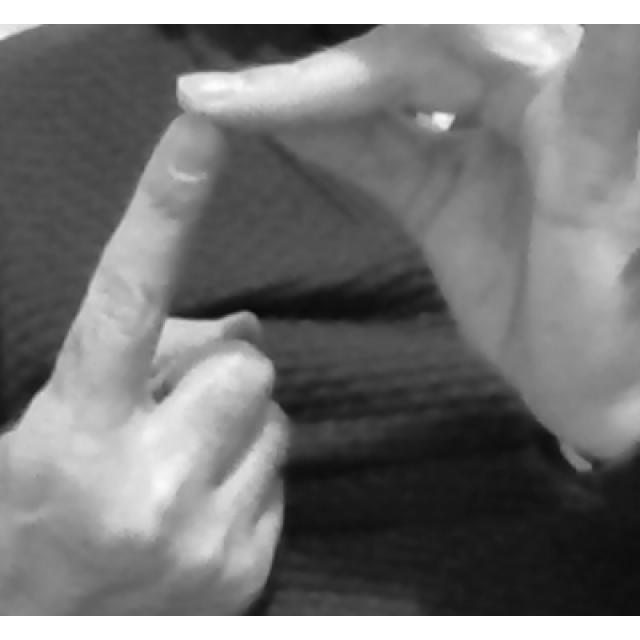I-: (0, 22, 474, 616)
